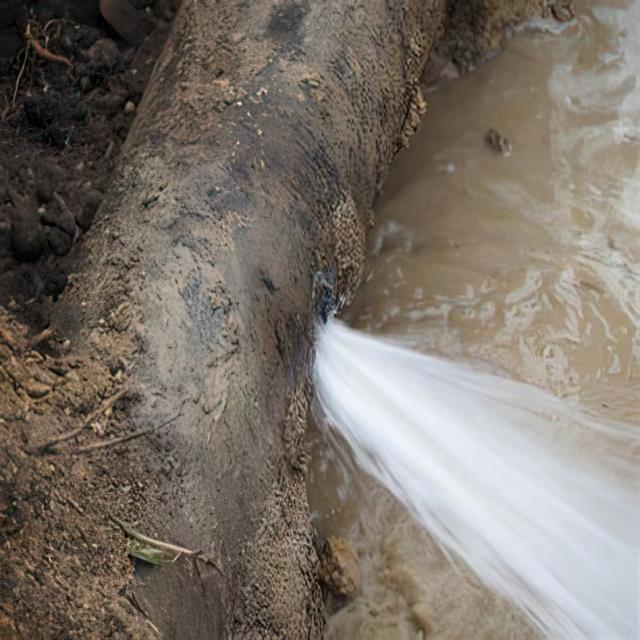leak: (304, 310, 640, 640)
